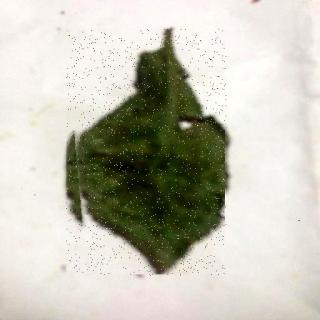Red Leaf Spot: (68, 31, 228, 278)
